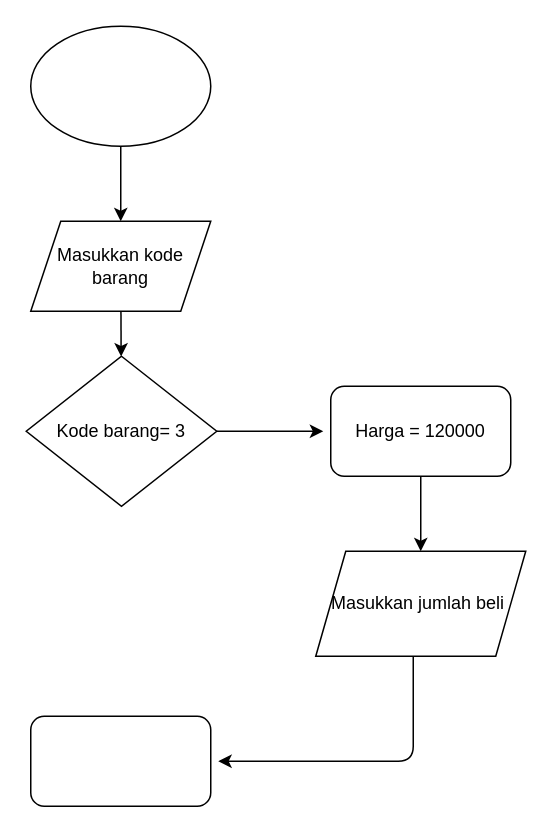
The diagram is 552 pixels wide and 833 high, and some of its shapes have lost their labels. Each missing label, with the box of its shape:
Hitung sub_total = jumlah beli * harga barang: (29, 715, 211, 806)
START: (29, 25, 211, 146)
